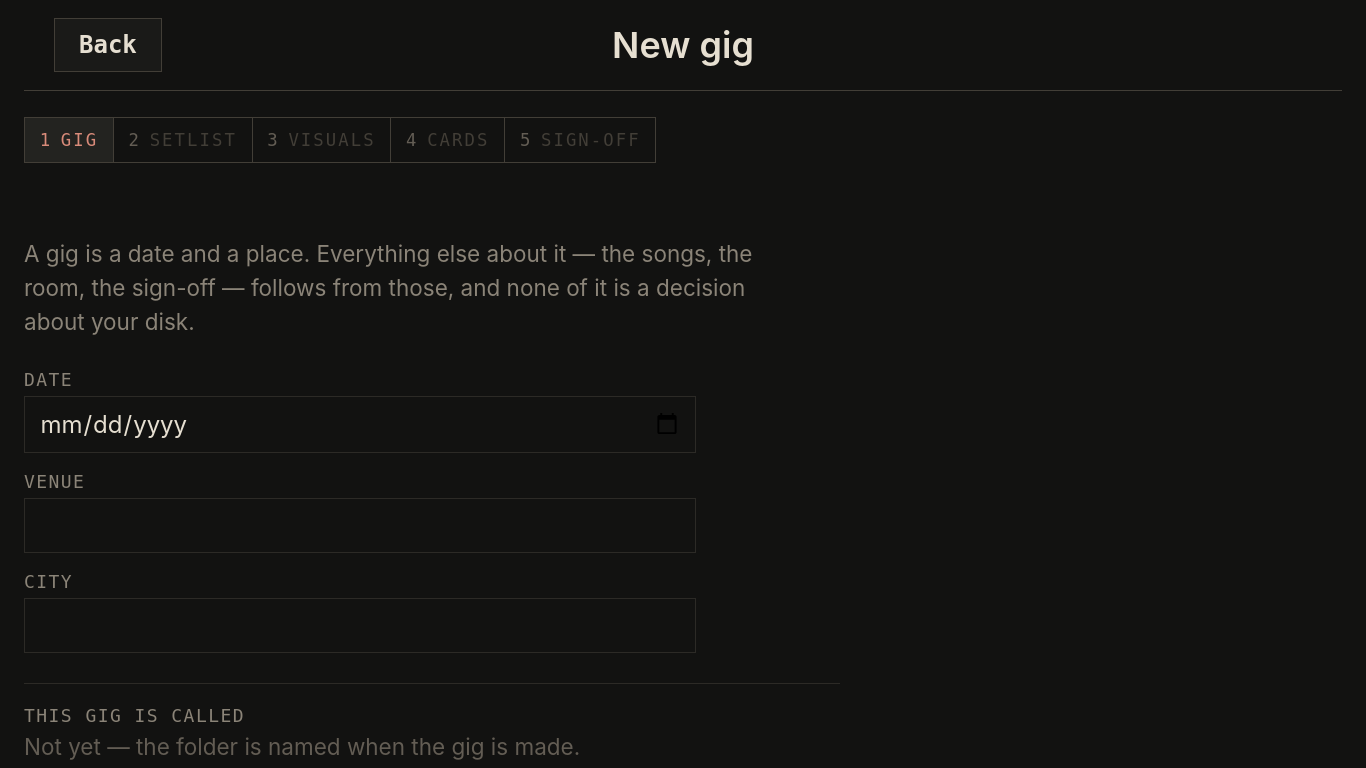
it: screen 1: the gig › moves on to the setlist once the gig is on disk
Type "2026-05-16" into the date field with test id "gig-flow-date".
click(360, 424); type("2026-05-16")  # box left=24, top=396, right=696, bottom=453
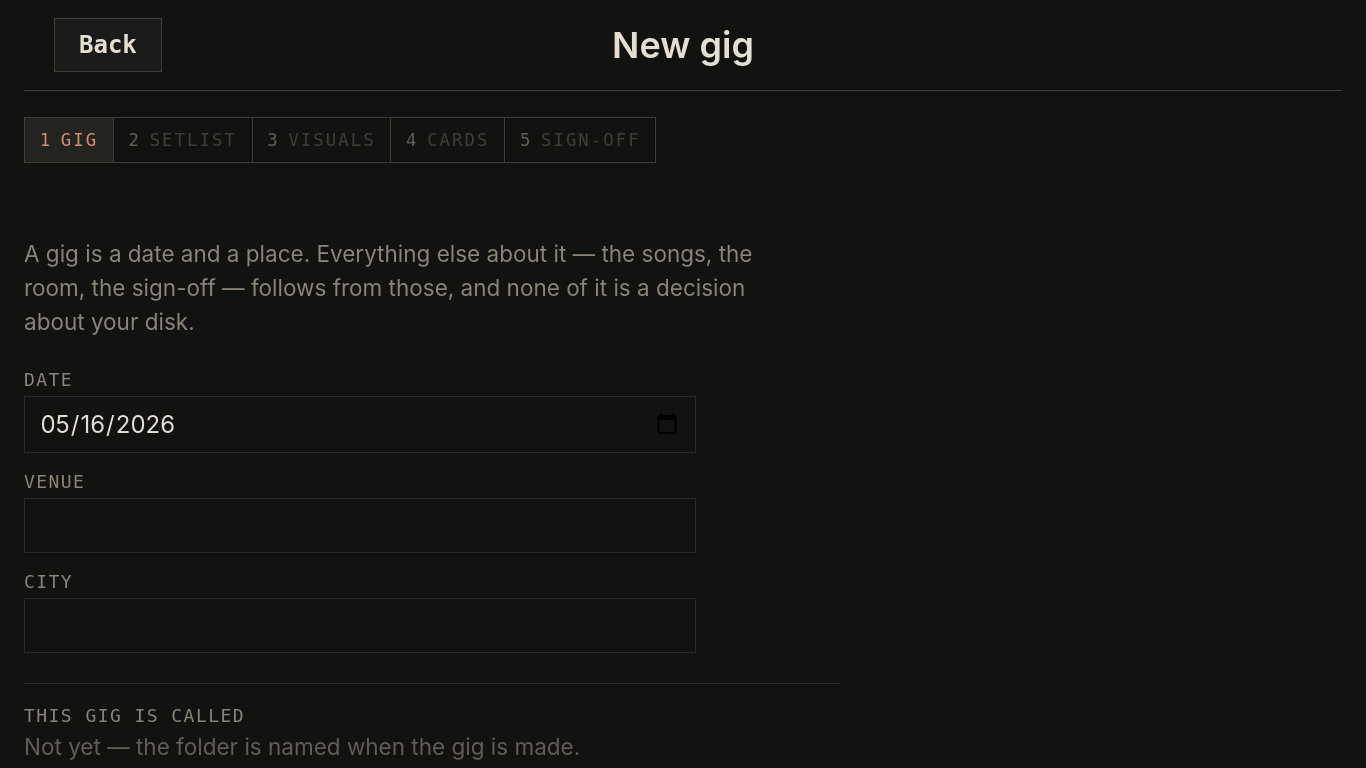
Type "BOM Festival" into the field with test id "gig-flow-venue".
click(360, 525); type("BOM Festival")  # box left=24, top=498, right=696, bottom=553
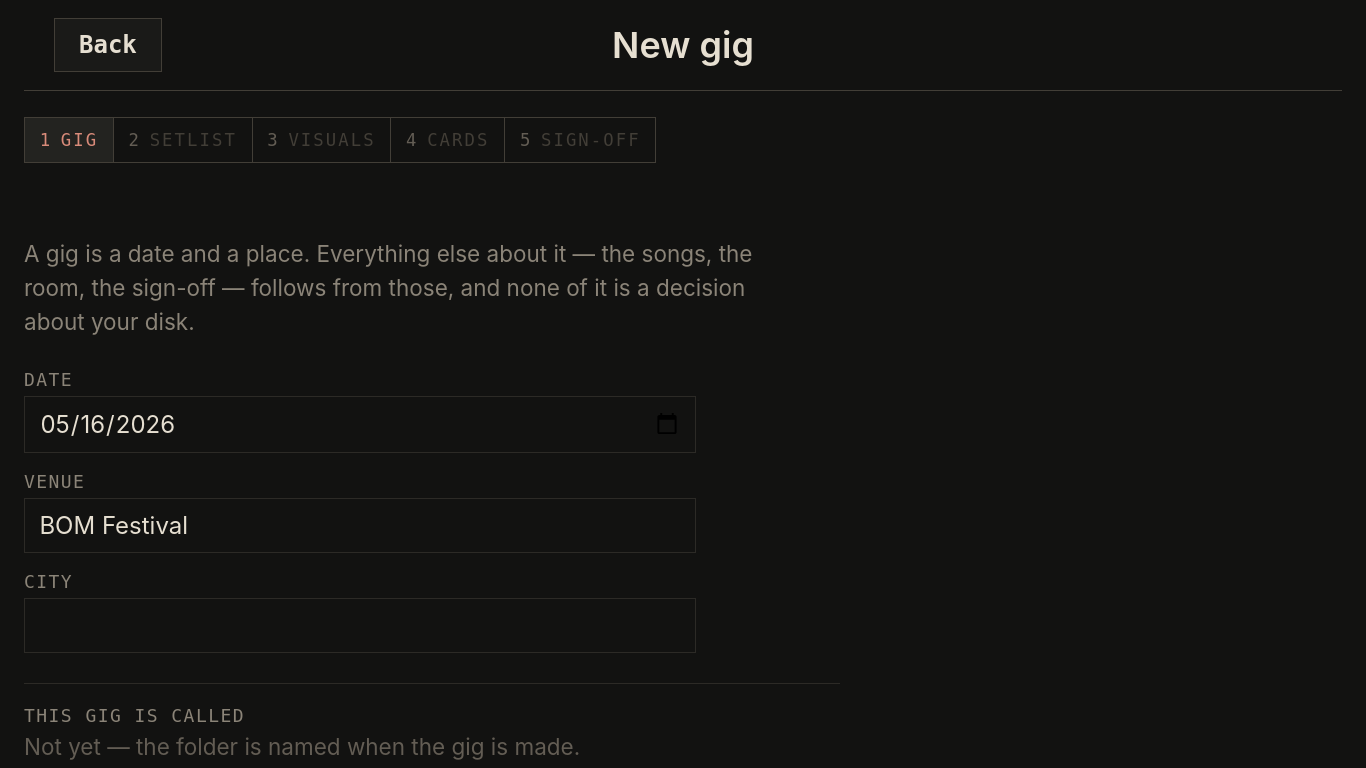
Type "Brussels" into the field with test id "gig-flow-city".
click(360, 625); type("Brussels")  # box left=24, top=598, right=696, bottom=653
(page scrolled)
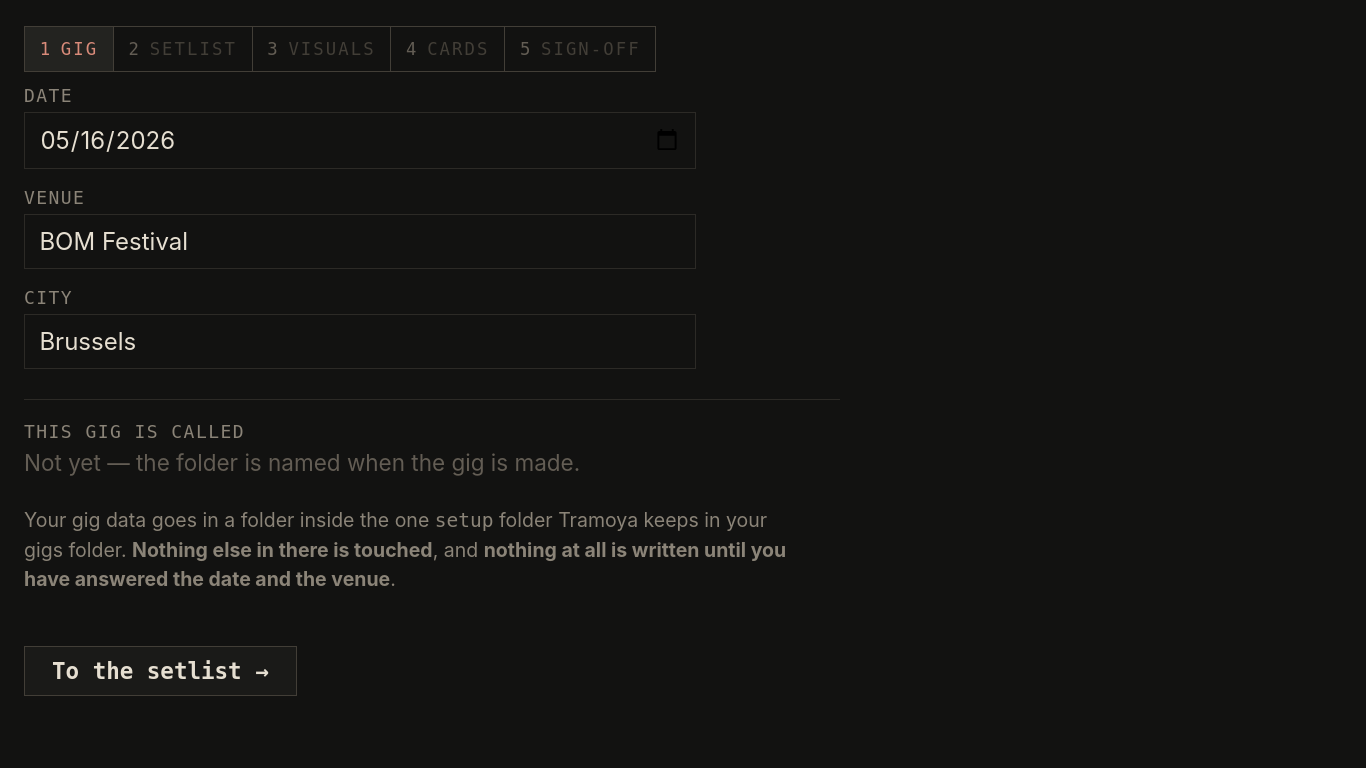
Click the button with test id "gig-flow-commit".
click(160, 671)  # box left=24, top=646, right=297, bottom=696
(page scrolled)
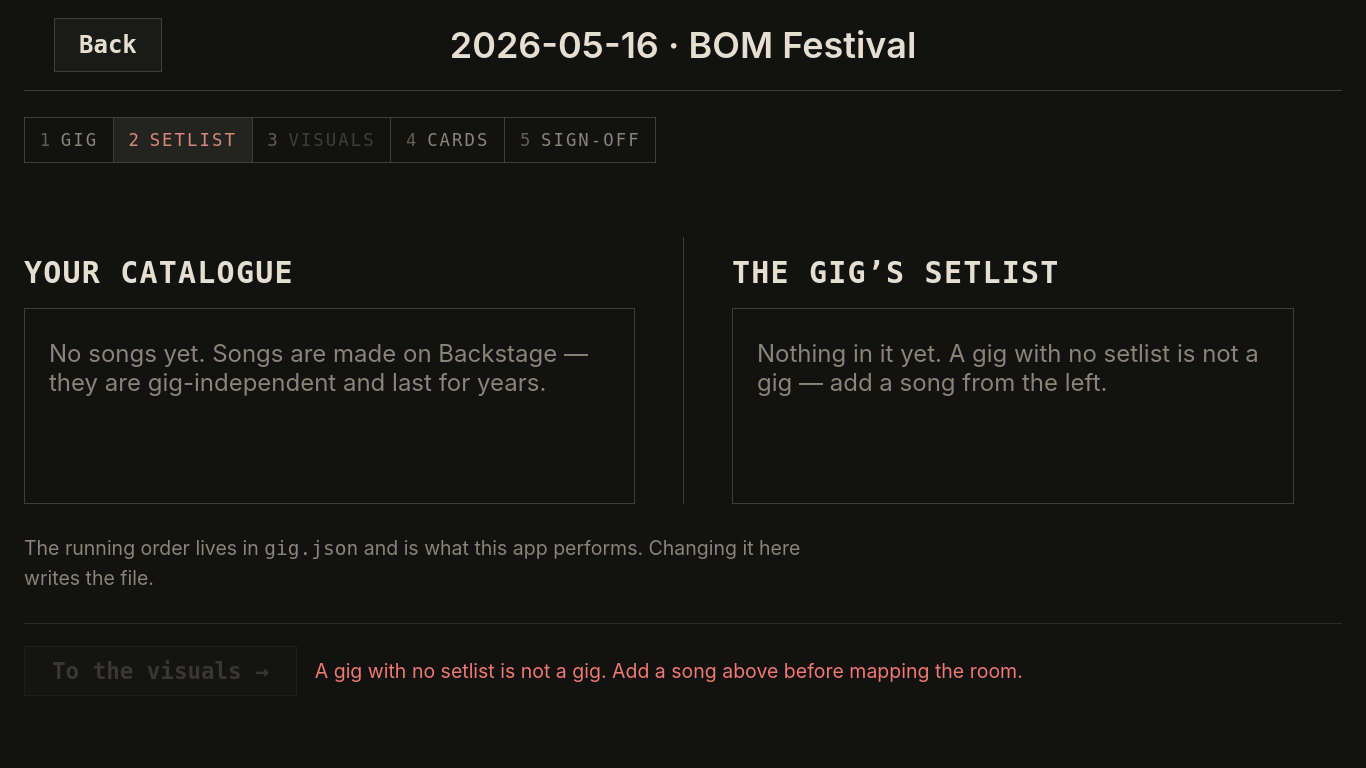
Result: the element with test id "gig-flow-screen-2" is shown
